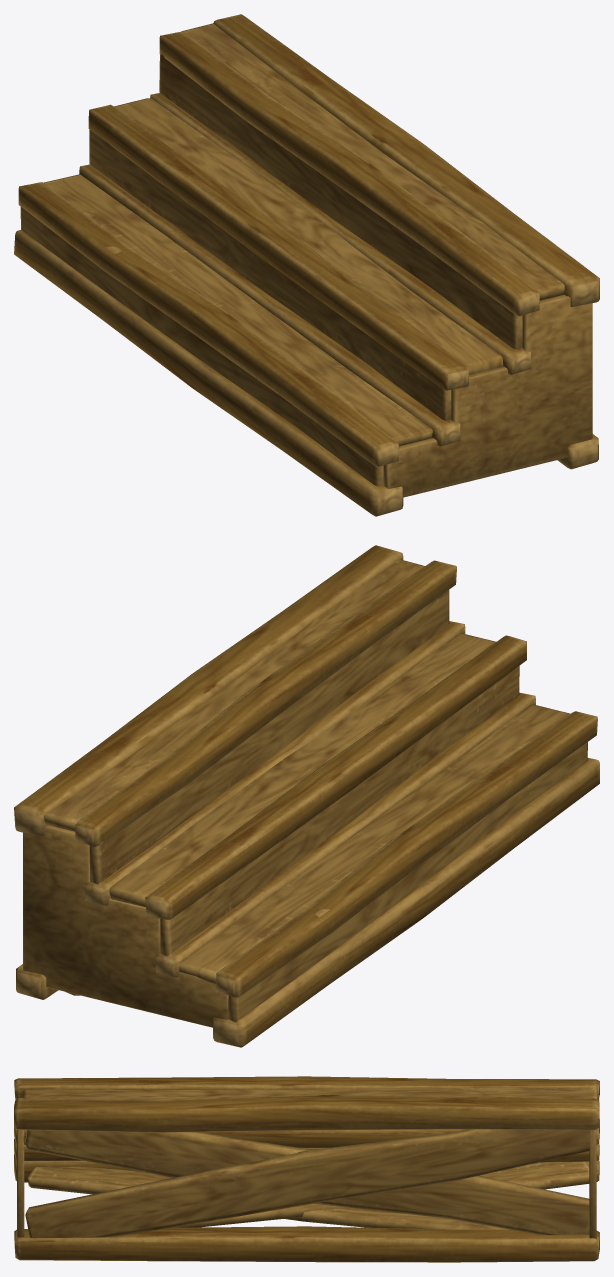
File: Staircase.fbx
The picture shows the model from 3 angles, top to bottom: view 1: azimuth 30°, elevation 25°; view 2: azimuth 150°, elevation 25°; view 3: azimuth 270°, elevation 25°; orthographic projection. The views are drawn at different scales.
Visible parts, largest first — view 1: Staircase_LOD0; view 2: Staircase_LOD0; view 3: Staircase_LOD0.
Boxes of the visible parts, bbox=[...] form: Staircase_LOD0: bbox=[14, 14, 599, 516]; Staircase_LOD0: bbox=[14, 545, 599, 1047]; Staircase_LOD0: bbox=[14, 1076, 599, 1262].
Size of the model in its own units: 83.54 by 224 by 66.42.
Materials: 1 (1 with a texture image).
